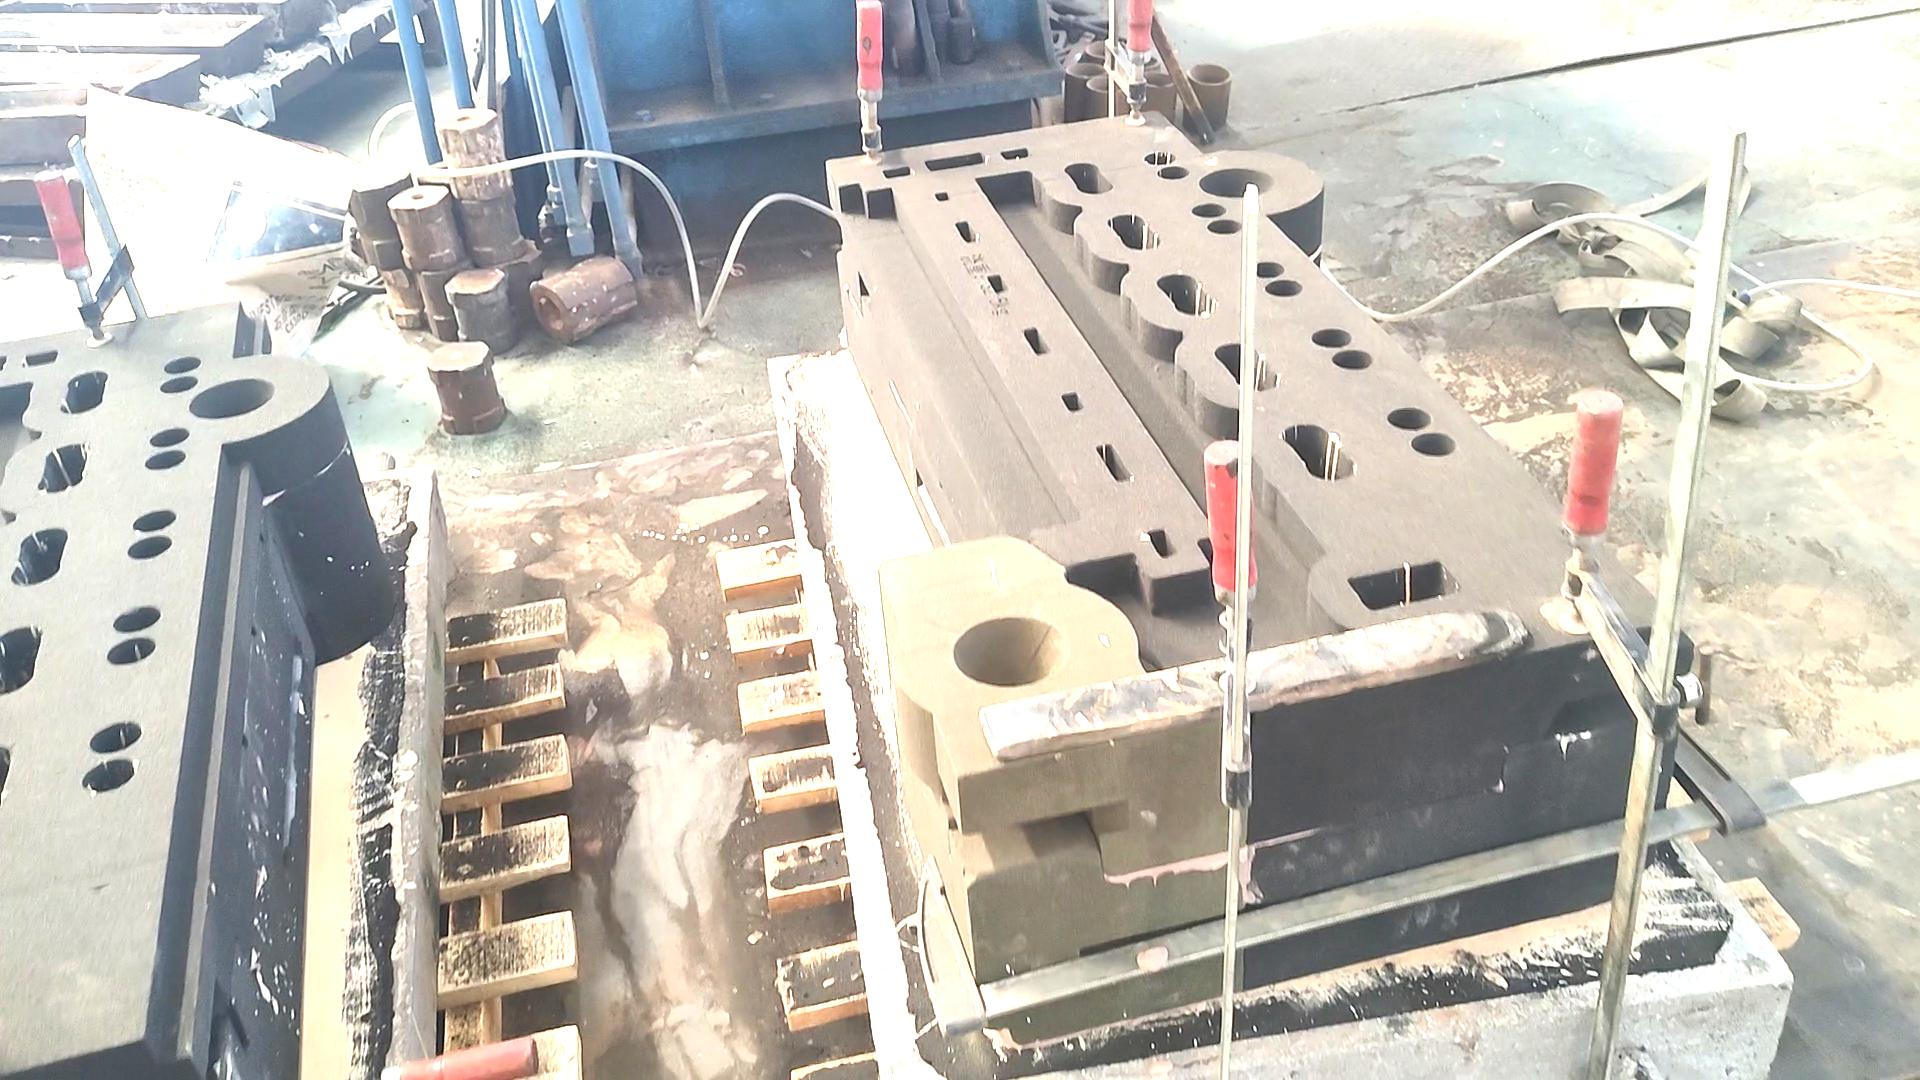pouring hole: (953, 616, 1065, 687), (189, 377, 276, 419), (1197, 167, 1273, 199), (1188, 62, 1233, 86), (1084, 40, 1124, 59), (1134, 71, 1178, 88), (1085, 76, 1124, 94), (1122, 51, 1160, 69), (1065, 62, 1106, 78)
